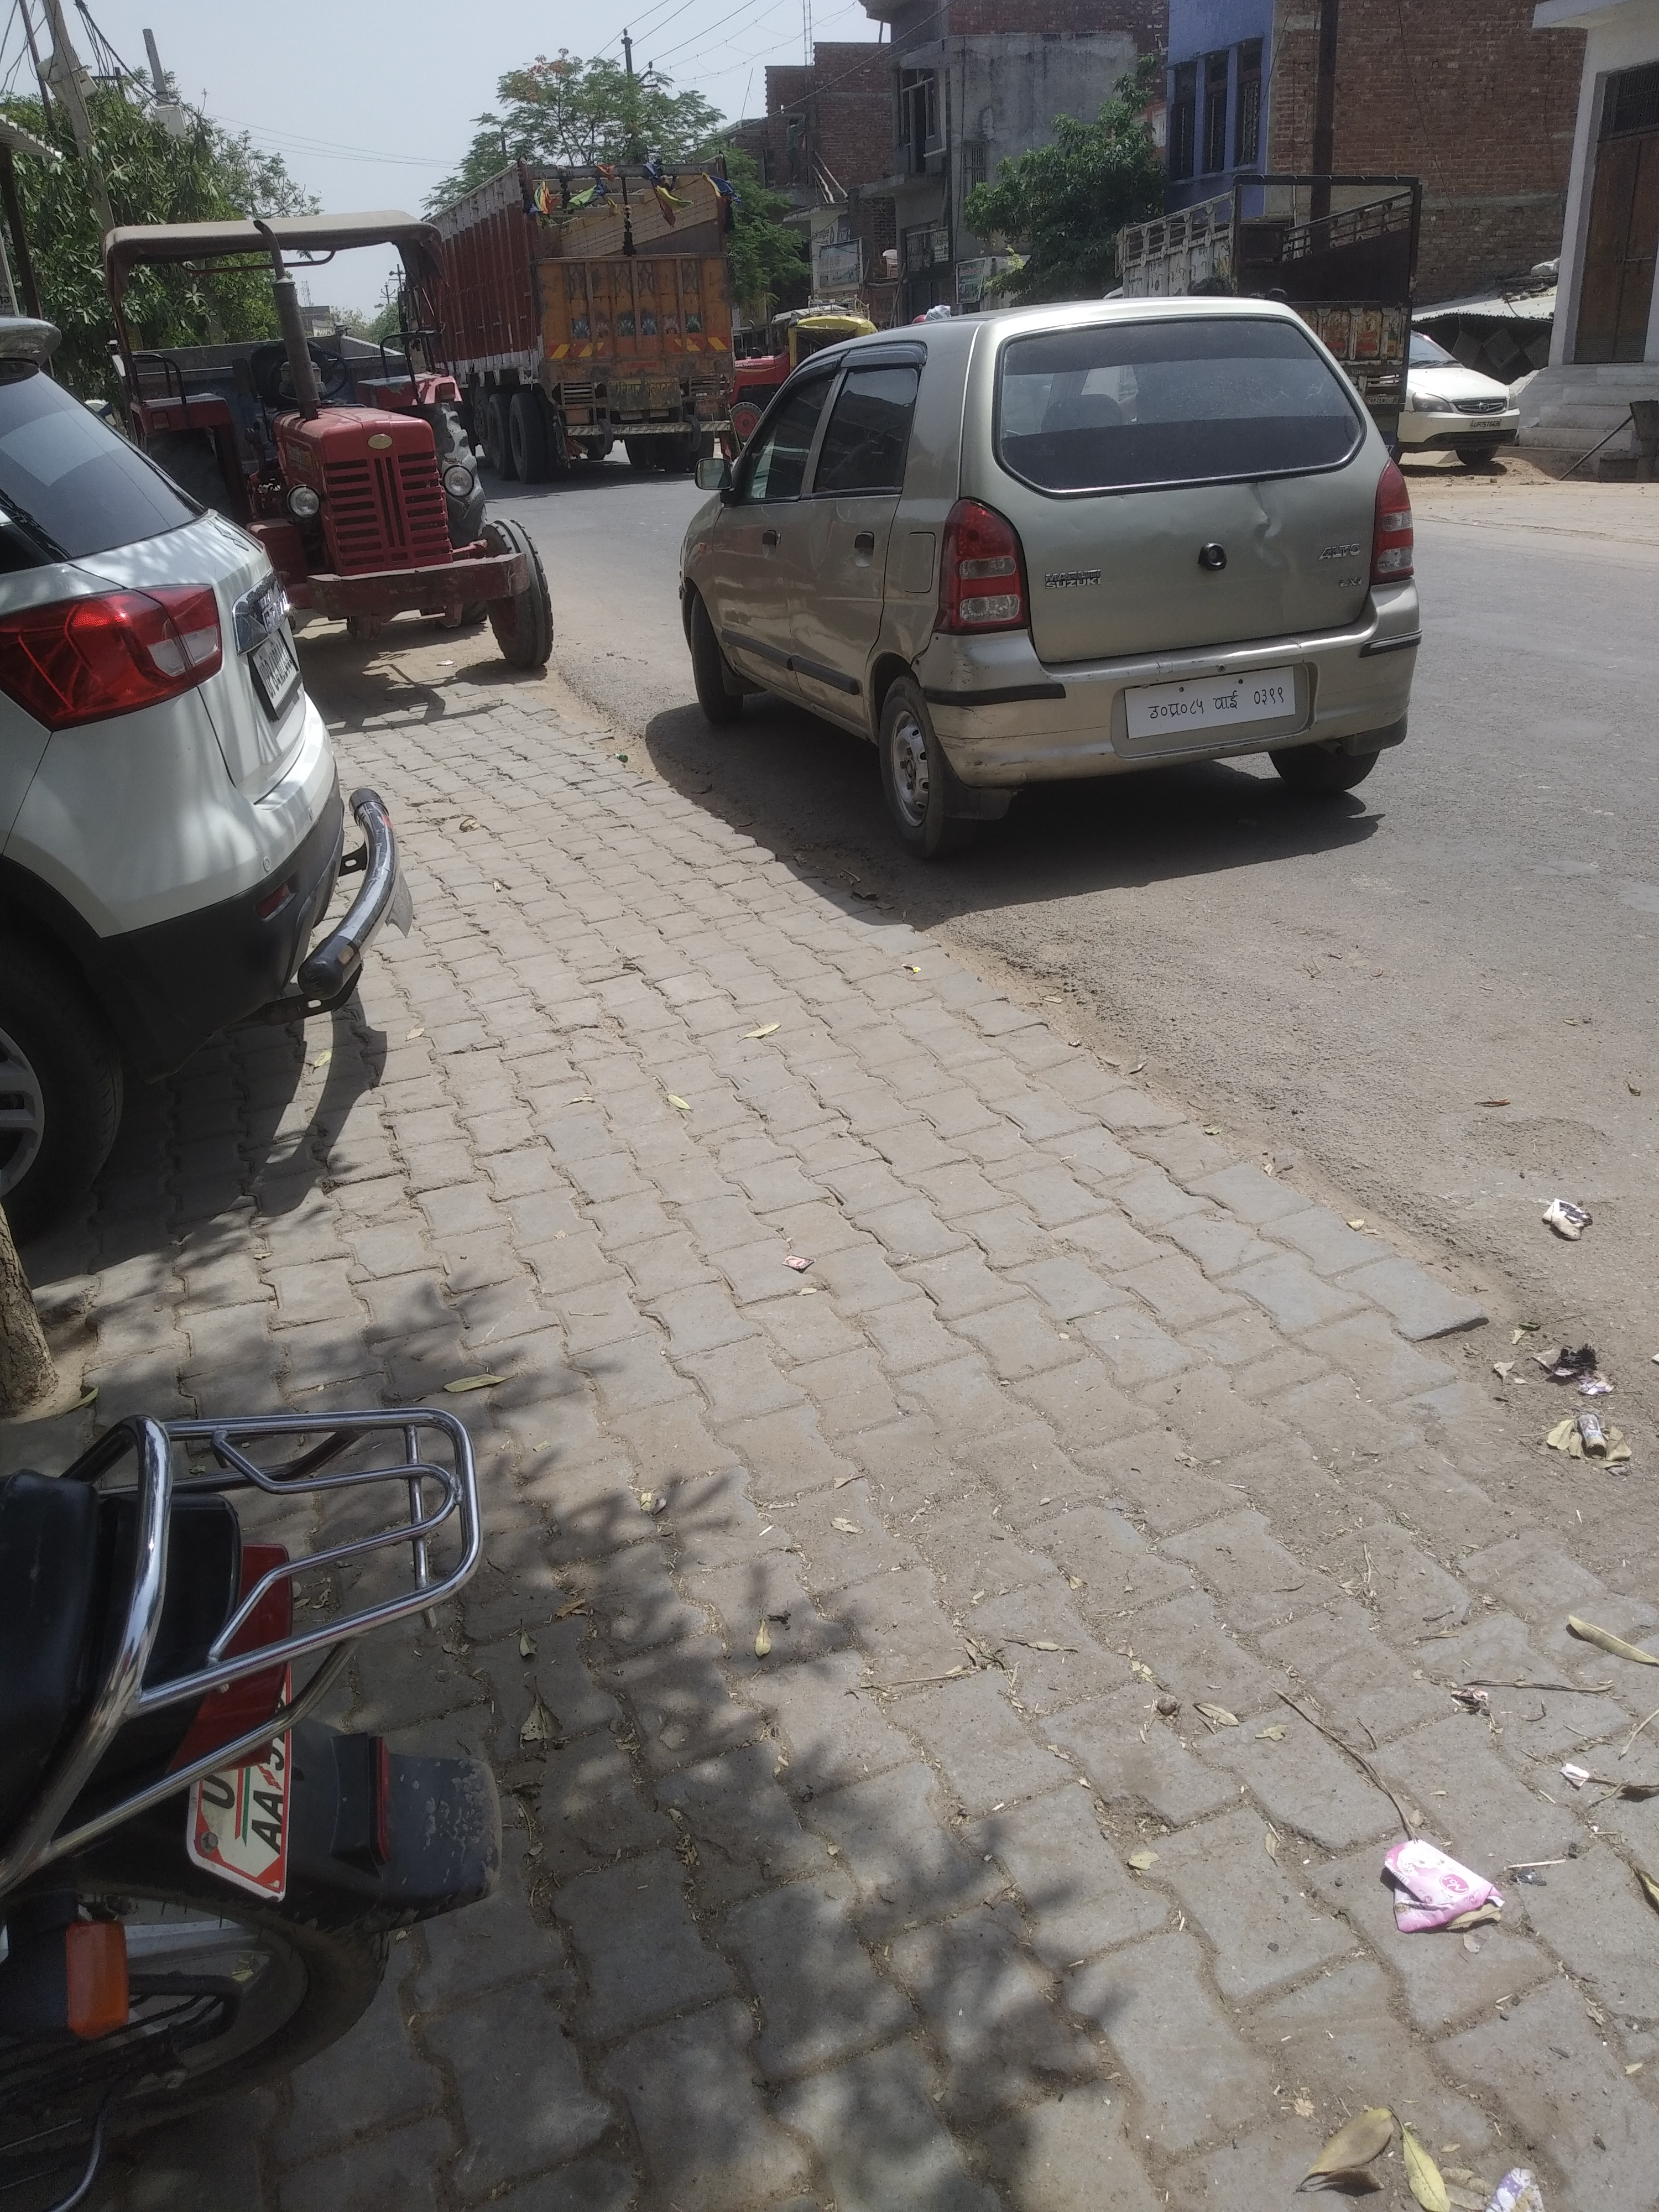tractor: (99, 206, 556, 669)
truck: (396, 146, 737, 484)
